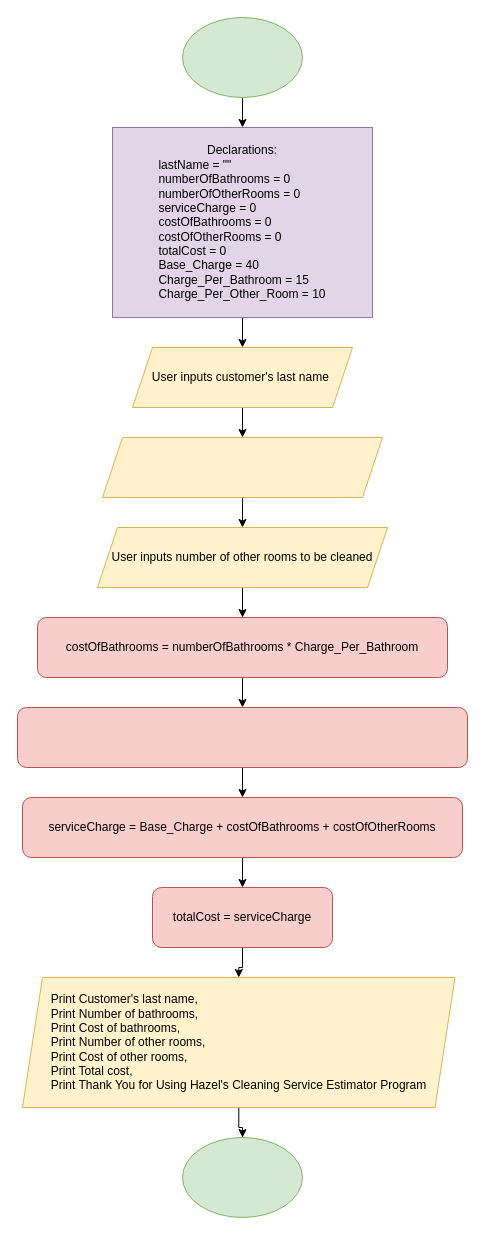
Image size: 485x1235. Some labels were removed from this diagram. The shapes that lost their labels are listed below. From the top down, each one's centre as x and y in pixels, then its label:
At [242,57]: "Start".
At [242,467]: "User inputs number of bathrooms to be cleaned".
At [242,737]: "costOfOtherRooms = numberOfOtherRooms * Charge_Per_Other_Room".
At [242,1177]: "Stop".
